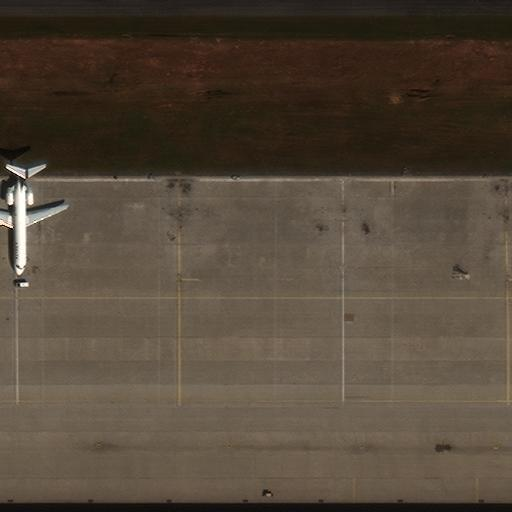Medium Civil Transport: (0, 168, 67, 275)
